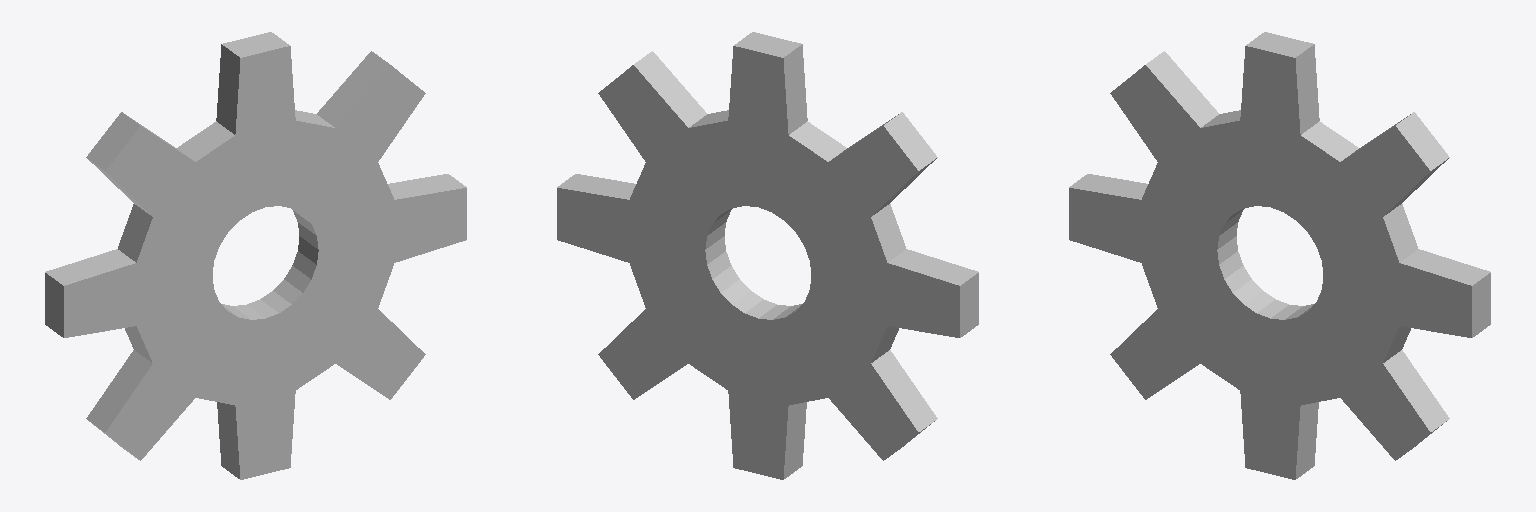
The model's file is Cog.obj.
3 renders of one model, left to right at view 1: azimuth 30°, elevation 25°; view 2: azimuth 150°, elevation 25°; view 3: azimuth 330°, elevation 25°, orthographic.
Parts seen in each view (by area): view 1: obj_0; view 2: obj_0; view 3: obj_0.
Boxes of the visible parts, x1=… form: obj_0: x1=45, y1=32, x2=466, y2=479; obj_0: x1=557, y1=32, x2=978, y2=479; obj_0: x1=1069, y1=32, x2=1490, y2=479.
Bounding box in the file's own units: 34.13 × 34.13 × 2.8.